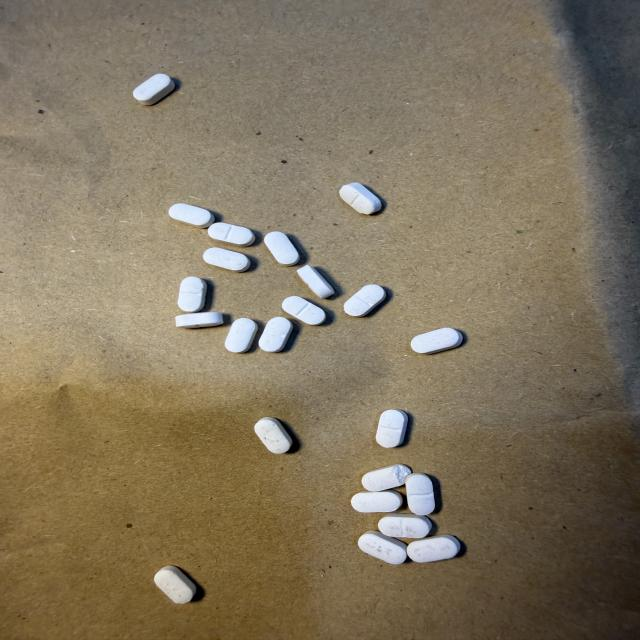pill: (358, 531, 406, 564), (154, 566, 196, 603), (406, 534, 461, 562), (254, 417, 293, 454), (411, 328, 462, 354), (362, 464, 411, 491), (344, 285, 386, 316), (133, 74, 175, 105), (378, 514, 431, 538), (340, 183, 381, 214), (282, 296, 325, 325), (405, 474, 435, 515), (297, 265, 334, 298), (376, 410, 408, 447), (259, 317, 292, 352), (264, 232, 299, 265), (203, 248, 250, 272), (225, 318, 257, 353), (169, 204, 214, 228), (351, 491, 402, 512), (209, 223, 255, 246), (178, 277, 206, 312), (176, 312, 223, 328)
